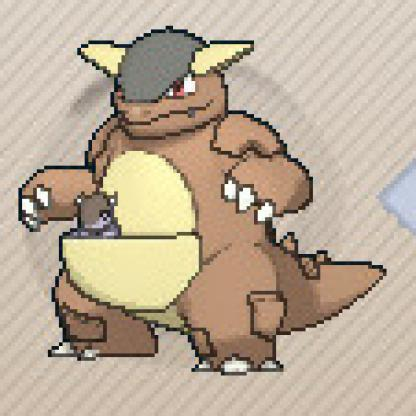Kangaskhan: (6, 33, 393, 373)
